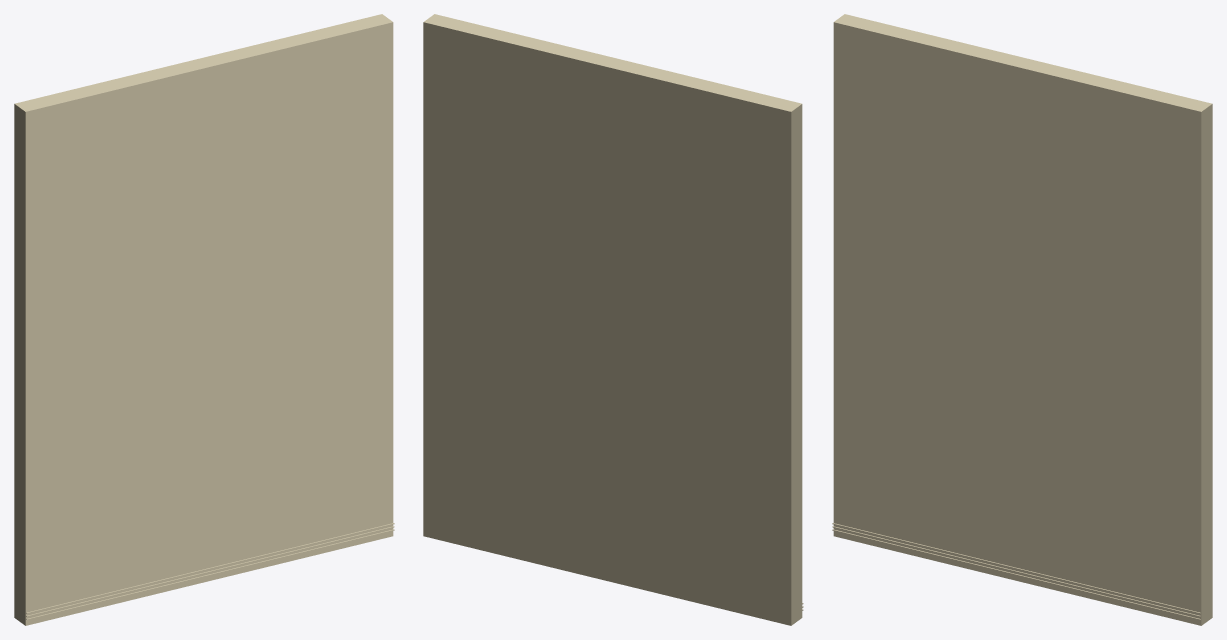
Rendered from pages.obj.
3 views of the same model, side by side, from view 1: azimuth 30°, elevation 25°; view 2: azimuth 150°, elevation 25°; view 3: azimuth 330°, elevation 25° (orthographic).
Size of the model in its own units: 6.08 by 8.12 by 0.354.
Materials: 1 (1 with a texture image).
